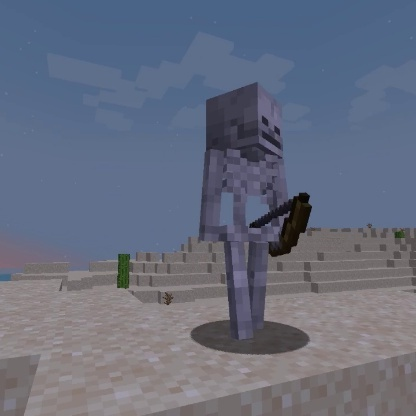skeleton: (194, 77, 317, 347)
